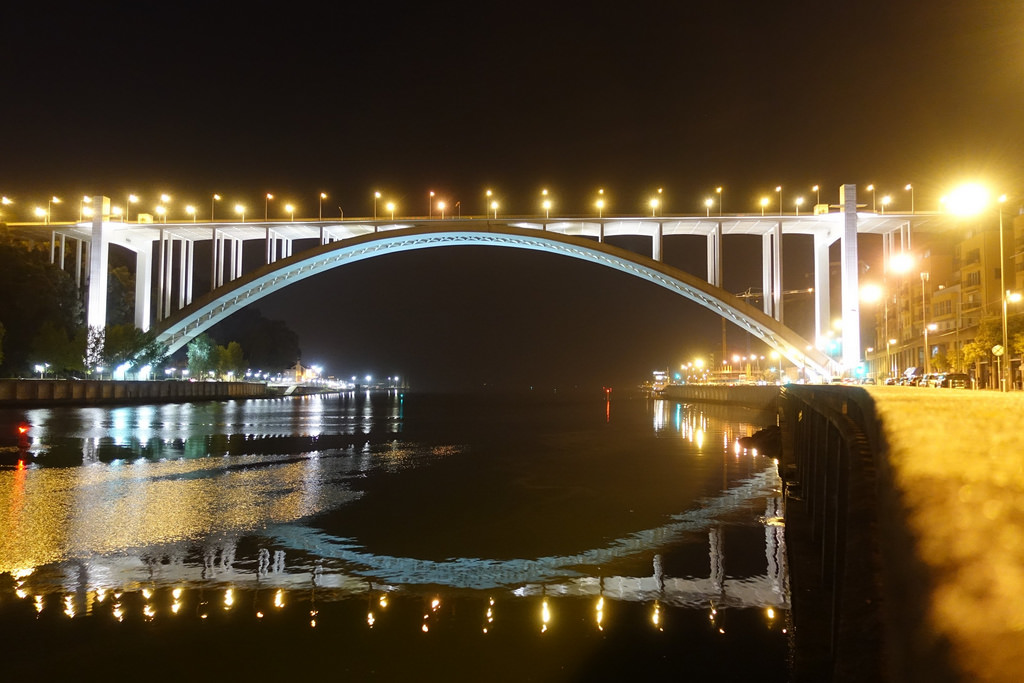arrabida: (0, 182, 954, 385)
